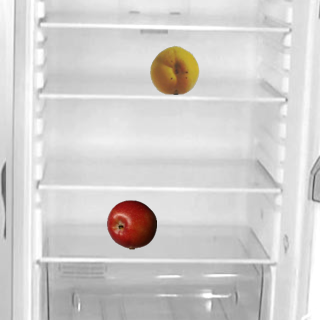Apple Braeburn: (106, 199, 156, 249)
Peach 2: (149, 44, 199, 94)
